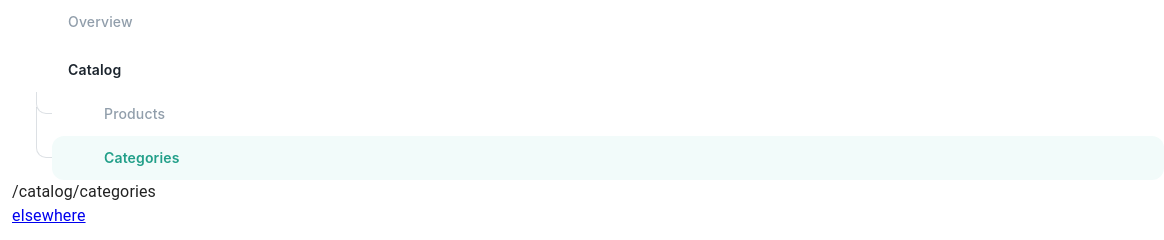
it: Menu (full) › collapses a group holding the current page on click
Step 1. Click the button "Catalog" → (95, 70), box [68,61,121,78]
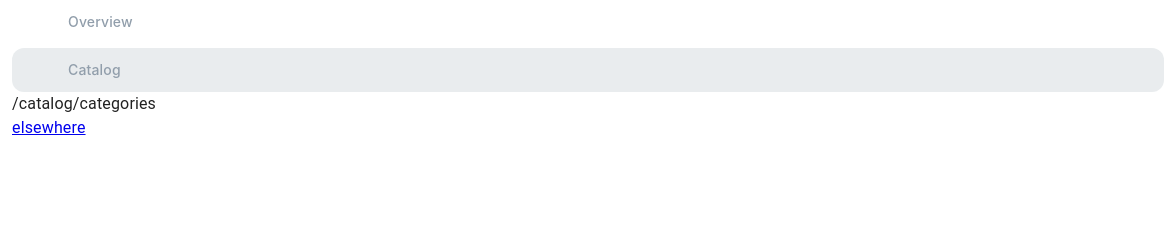
Expected: the text with test id "location" reads "/catalog/categories", [12,94,156,113]
Expected: the button "Catalog" is collapsed, [12,48,1163,92]
